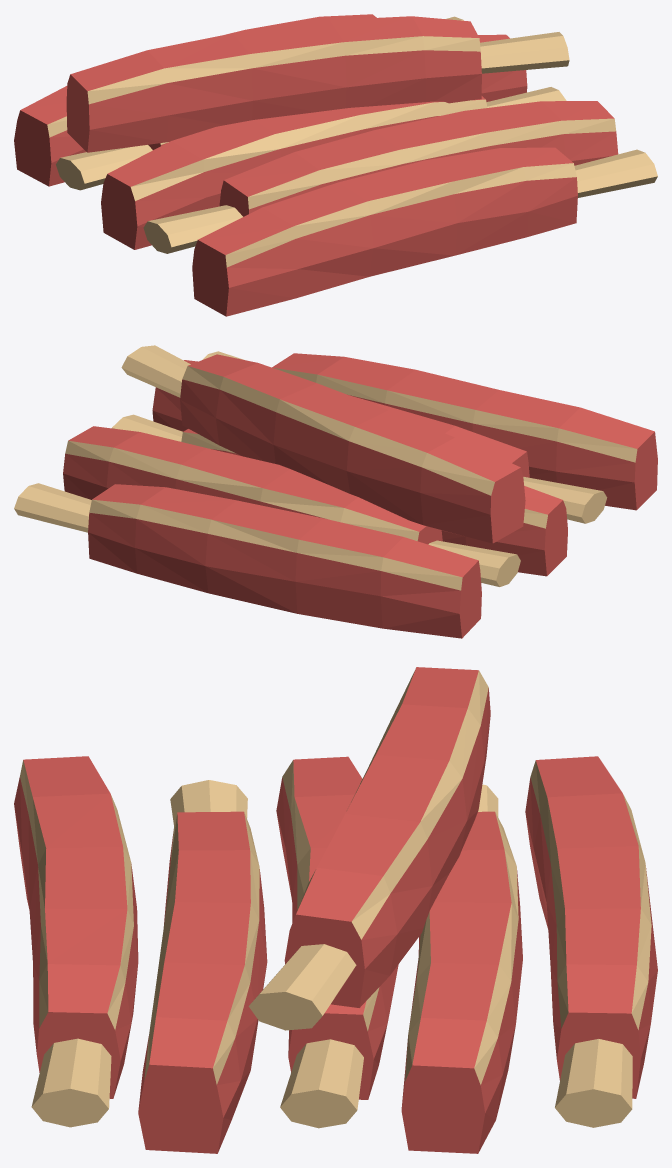
The model's file is SM_Cook_PorkRibPile_01.fbx.
3 renders of one model, top to bottom at view 1: azimuth 30°, elevation 25°; view 2: azimuth 150°, elevation 25°; view 3: azimuth 270°, elevation 25°, orthographic. The views are drawn at different scales.
Visible parts, largest first — view 1: SM_Cook_PorkRibPile_01; view 2: SM_Cook_PorkRibPile_01; view 3: SM_Cook_PorkRibPile_01.
Boxes of the visible parts, <box> form: SM_Cook_PorkRibPile_01: <box>14,14,657,316</box>; SM_Cook_PorkRibPile_01: <box>14,345,657,638</box>; SM_Cook_PorkRibPile_01: <box>14,667,657,1153</box>.
Size of the model in its own units: 0.2412 by 0.071 by 0.2097.
1 material, 1 textured.
